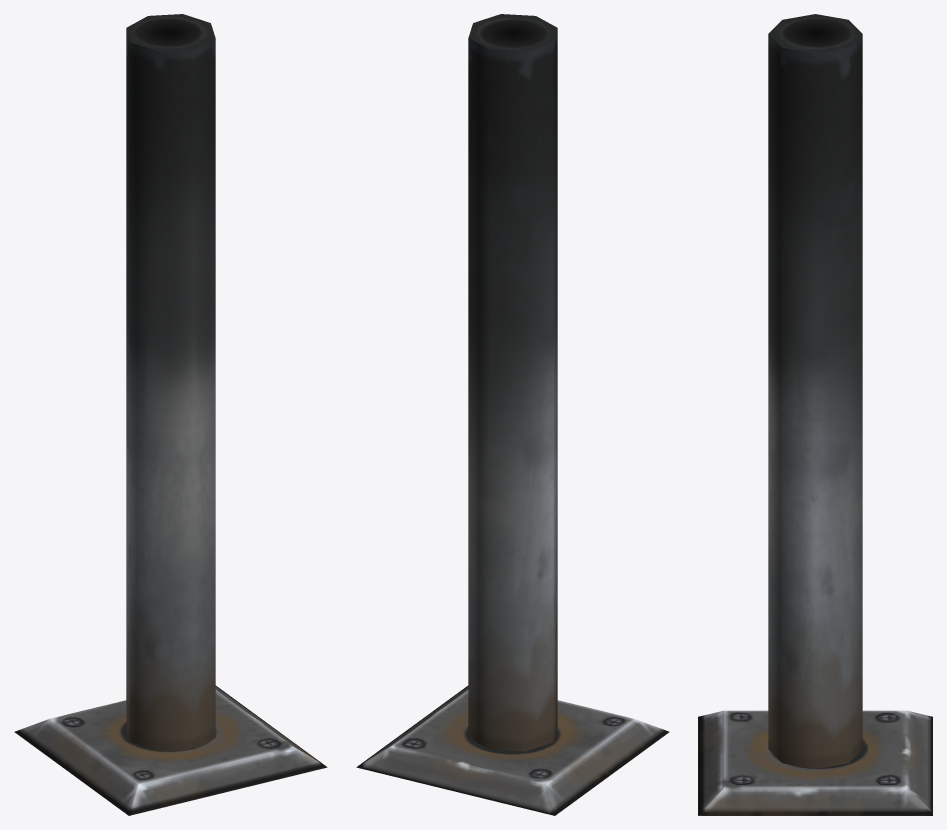
File: chimney_roof09.fbx
The picture shows the model from 3 angles, left to right: view 1: azimuth 30°, elevation 25°; view 2: azimuth 150°, elevation 25°; view 3: azimuth 270°, elevation 25°; orthographic projection. The views are drawn at different scales.
Visible parts, largest first — view 1: chimney_roof09; view 2: chimney_roof09; view 3: chimney_roof09.
Part boxes in pixels (bbox=[...]): chimney_roof09: bbox=[14, 14, 327, 815]; chimney_roof09: bbox=[356, 14, 669, 815]; chimney_roof09: bbox=[698, 14, 932, 815].
Size of the model in its own units: 51.02 by 176 by 51.02.
